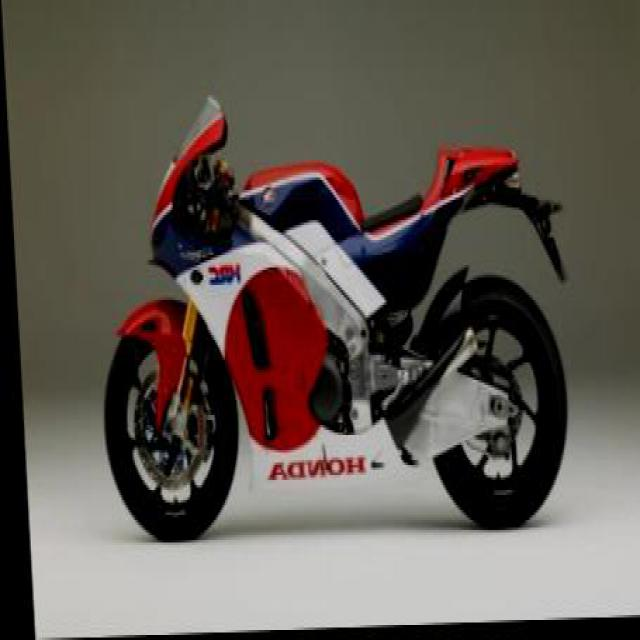HRC RCV 213: (83, 85, 570, 547)
